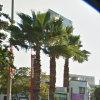Palm tree: (19, 6, 80, 85)
